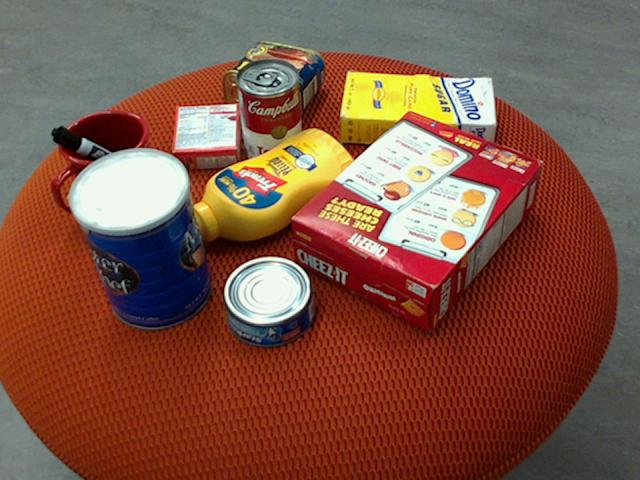cracker_box: (291, 110, 545, 330)
gelatin_box: (171, 102, 241, 171)
large_marker: (50, 125, 154, 189)
master_chef_can: (65, 147, 212, 330)
mug: (54, 109, 157, 217)
mustard_bottle: (177, 128, 360, 241)
potted_meat_can: (223, 42, 326, 123)
sugar_box: (340, 72, 498, 148)
tomato_soup_can: (236, 57, 302, 167)
tuna_fish_can: (223, 257, 316, 347)
